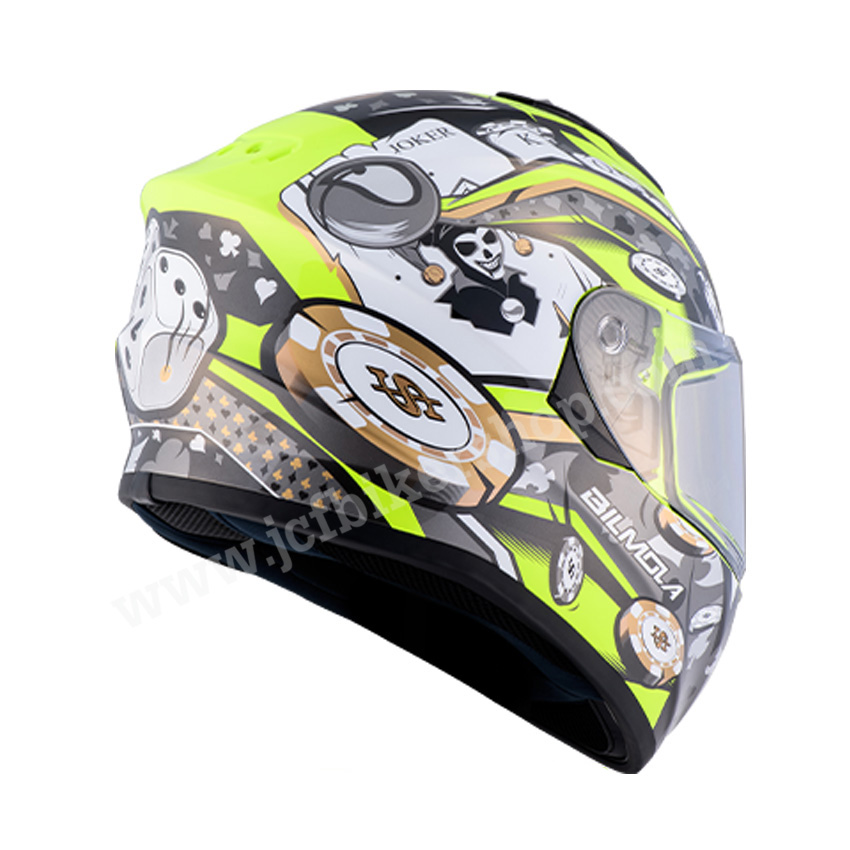helmet: (117, 89, 747, 773)
